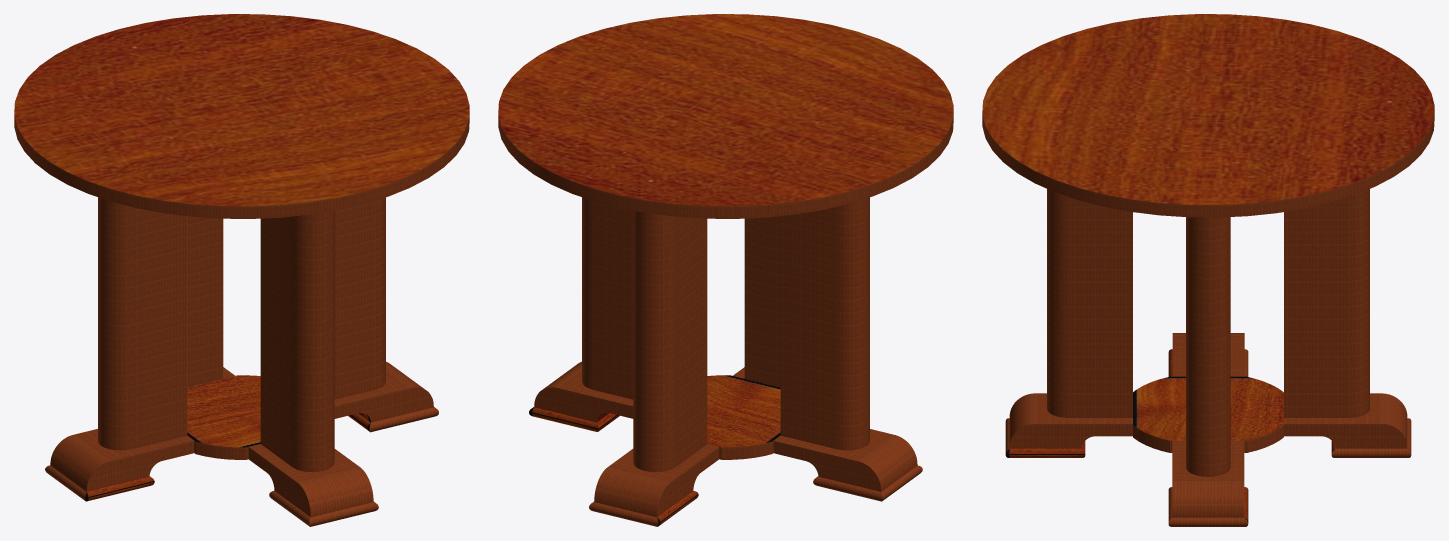
File: TableSmall.FBX
3 renders of one model, left to right at view 1: azimuth 30°, elevation 25°; view 2: azimuth 150°, elevation 25°; view 3: azimuth 270°, elevation 25°, orthographic.
Parts seen in each view (by area): view 1: Mesh23, Mesh11, Mesh12, Mesh9, Mesh10, Mesh17, Mesh6, Mesh2, Mesh8, Mesh1, Mesh7, Mesh3; view 2: Mesh23, Mesh11, Mesh10, Mesh9, Mesh12, Mesh17, Mesh6, Mesh5, Mesh8, Mesh4, Mesh7, Mesh3; view 3: Mesh23, Mesh10, Mesh12, Mesh9, Mesh17, Mesh8, Mesh5, Mesh2, Mesh6, Mesh3, Mesh4, Mesh1.
Boxes of the visible parts, x1=… form: Mesh23: x1=14, y1=14, x2=469, y2=218; Mesh11: x1=98, y1=197, x2=187, y2=450; Mesh12: x1=260, y1=210, x2=334, y2=472; Mesh9: x1=334, y1=197, x2=385, y2=399; Mesh10: x1=187, y1=216, x2=223, y2=387; Mesh17: x1=187, y1=375, x2=260, y2=459; Mesh6: x1=50, y1=429, x2=194, y2=491; Mesh2: x1=248, y1=444, x2=373, y2=517; Mesh8: x1=334, y1=362, x2=433, y2=422; Mesh1: x1=269, y1=491, x2=378, y2=526; Mesh7: x1=45, y1=465, x2=154, y2=501; Mesh3: x1=348, y1=407, x2=438, y2=432; Mesh23: x1=498, y1=14, x2=953, y2=218; Mesh11: x1=780, y1=197, x2=869, y2=450; Mesh10: x1=633, y1=210, x2=707, y2=472; Mesh9: x1=582, y1=197, x2=633, y2=399; Mesh12: x1=744, y1=216, x2=780, y2=387; Mesh17: x1=707, y1=375, x2=780, y2=459; Mesh6: x1=773, y1=429, x2=917, y2=491; Mesh5: x1=594, y1=444, x2=719, y2=517; Mesh8: x1=534, y1=361, x2=633, y2=422; Mesh4: x1=589, y1=491, x2=698, y2=526; Mesh7: x1=813, y1=465, x2=922, y2=501; Mesh3: x1=529, y1=407, x2=619, y2=431; Mesh23: x1=982, y1=14, x2=1434, y2=217; Mesh10: x1=1284, y1=189, x2=1369, y2=417; Mesh12: x1=1047, y1=189, x2=1132, y2=417; Mesh9: x1=1186, y1=217, x2=1230, y2=476; Mesh17: x1=1133, y1=376, x2=1283, y2=452; Mesh8: x1=1172, y1=440, x2=1244, y2=517; Mesh5: x1=1284, y1=393, x2=1407, y2=448; Mesh2: x1=1009, y1=393, x2=1132, y2=448; Mesh6: x1=1172, y1=333, x2=1244, y2=376; Mesh3: x1=1168, y1=487, x2=1248, y2=526; Mesh4: x1=1331, y1=418, x2=1411, y2=457; Mesh1: x1=1005, y1=418, x2=1085, y2=457.
Size of the model in its own units: 83.14 by 67.58 by 83.14.
3 materials, 2 textured.
